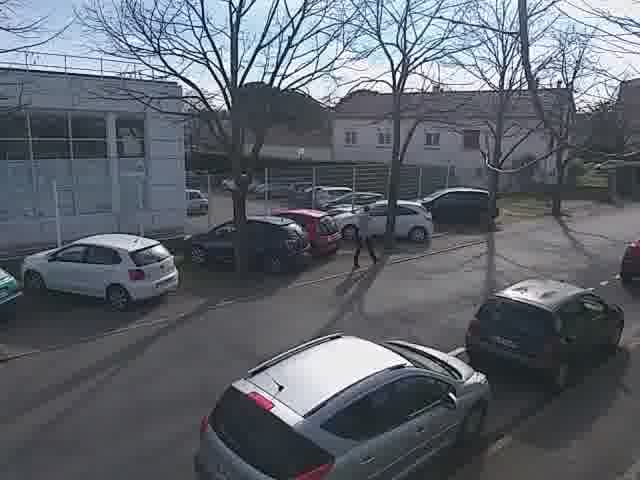persona: (350, 194, 380, 272)
